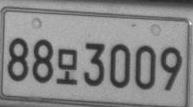0: (133, 44, 156, 90), (108, 42, 130, 88)
3: (82, 42, 105, 86)
8: (31, 38, 54, 84), (6, 37, 29, 82)
9: (159, 45, 182, 91)
모: (55, 48, 78, 85)
